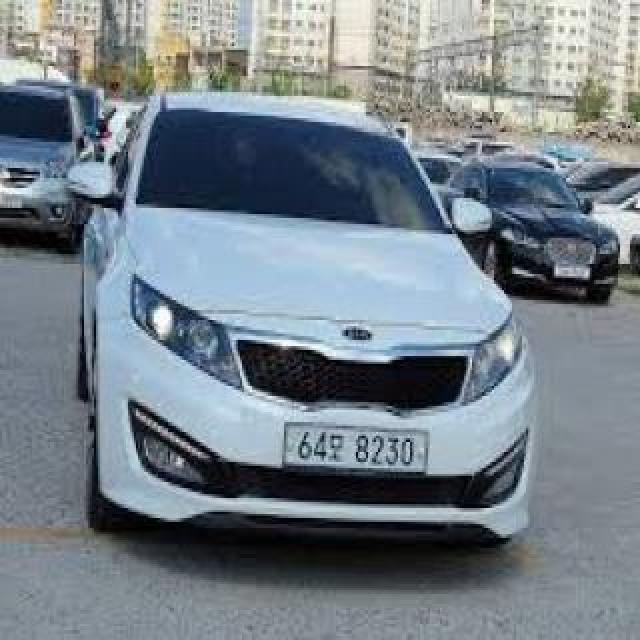car: (65, 81, 547, 571)
illegal_plate: (283, 418, 433, 483)
